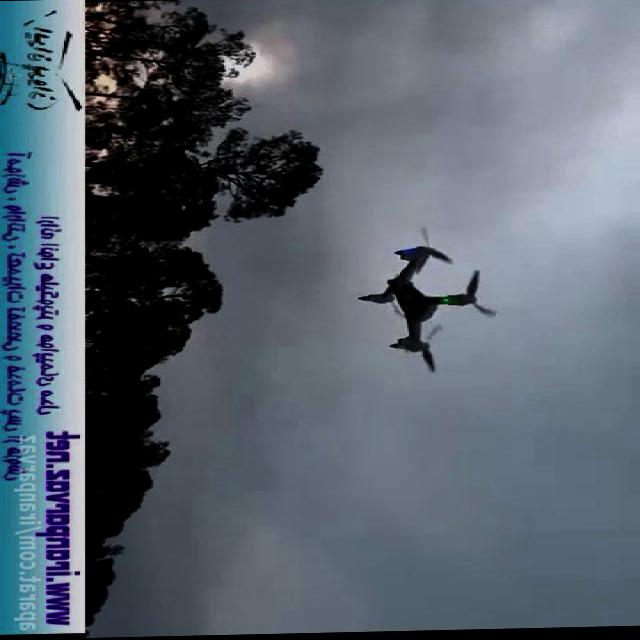drone: (356, 225, 504, 380)
